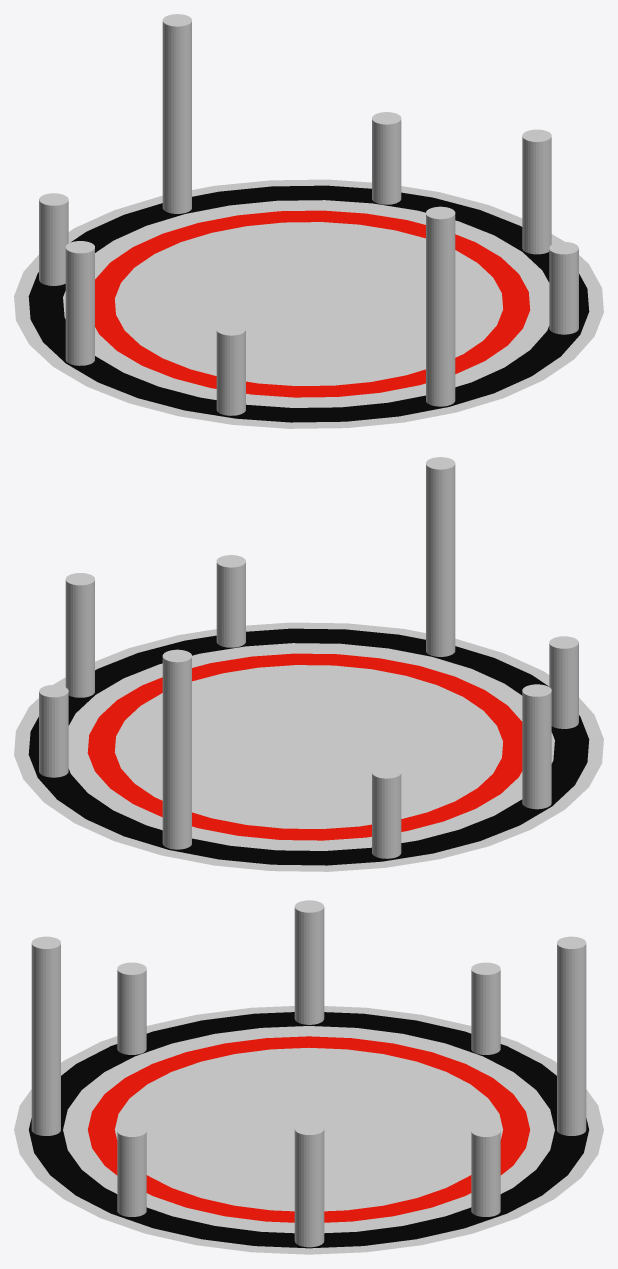
Rendered from lvl1_fight_prototype.fbx.
3 renders of one model, top to bottom at view 1: azimuth 30°, elevation 25°; view 2: azimuth 150°, elevation 25°; view 3: azimuth 270°, elevation 25°, orthographic.
Visible parts, largest first — view 1: Circle, Circle.002, Circle.001, Cylinder.001, Cylinder.002, Cylinder; view 2: Circle, Circle.002, Circle.001, Cylinder.001, Cylinder.002, Cylinder; view 3: Circle, Circle.002, Circle.001, Cylinder.001, Cylinder.002, Cylinder.
Boxes of the visible parts, left/top/right/bottom form: Circle: left=14, top=179, right=603, bottom=428; Circle.002: left=28, top=185, right=589, bottom=422; Circle.001: left=95, top=210, right=530, bottom=397; Cylinder.001: left=162, top=14, right=455, bottom=406; Cylinder.002: left=39, top=112, right=578, bottom=415; Cylinder: left=65, top=129, right=551, bottom=365; Circle: left=14, top=622, right=603, bottom=871; Circle.002: left=28, top=628, right=589, bottom=865; Circle.001: left=87, top=653, right=522, bottom=840; Cylinder.001: left=162, top=457, right=455, bottom=849; Cylinder.002: left=39, top=555, right=578, bottom=858; Cylinder: left=65, top=573, right=551, bottom=809; Circle: left=14, top=1006, right=603, bottom=1254; Circle.002: left=29, top=1012, right=588, bottom=1248; Circle.001: left=88, top=1036, right=529, bottom=1222; Cylinder.001: left=31, top=936, right=586, bottom=1135; Cylinder.002: left=117, top=962, right=500, bottom=1216; Cylinder: left=294, top=900, right=324, bottom=1247.
Bounding box in the file's own units: 4000 × 1400 × 4000.
